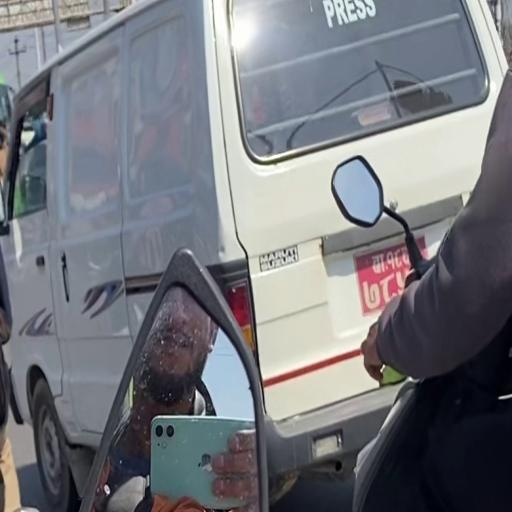license_plate: (350, 234, 431, 320)
